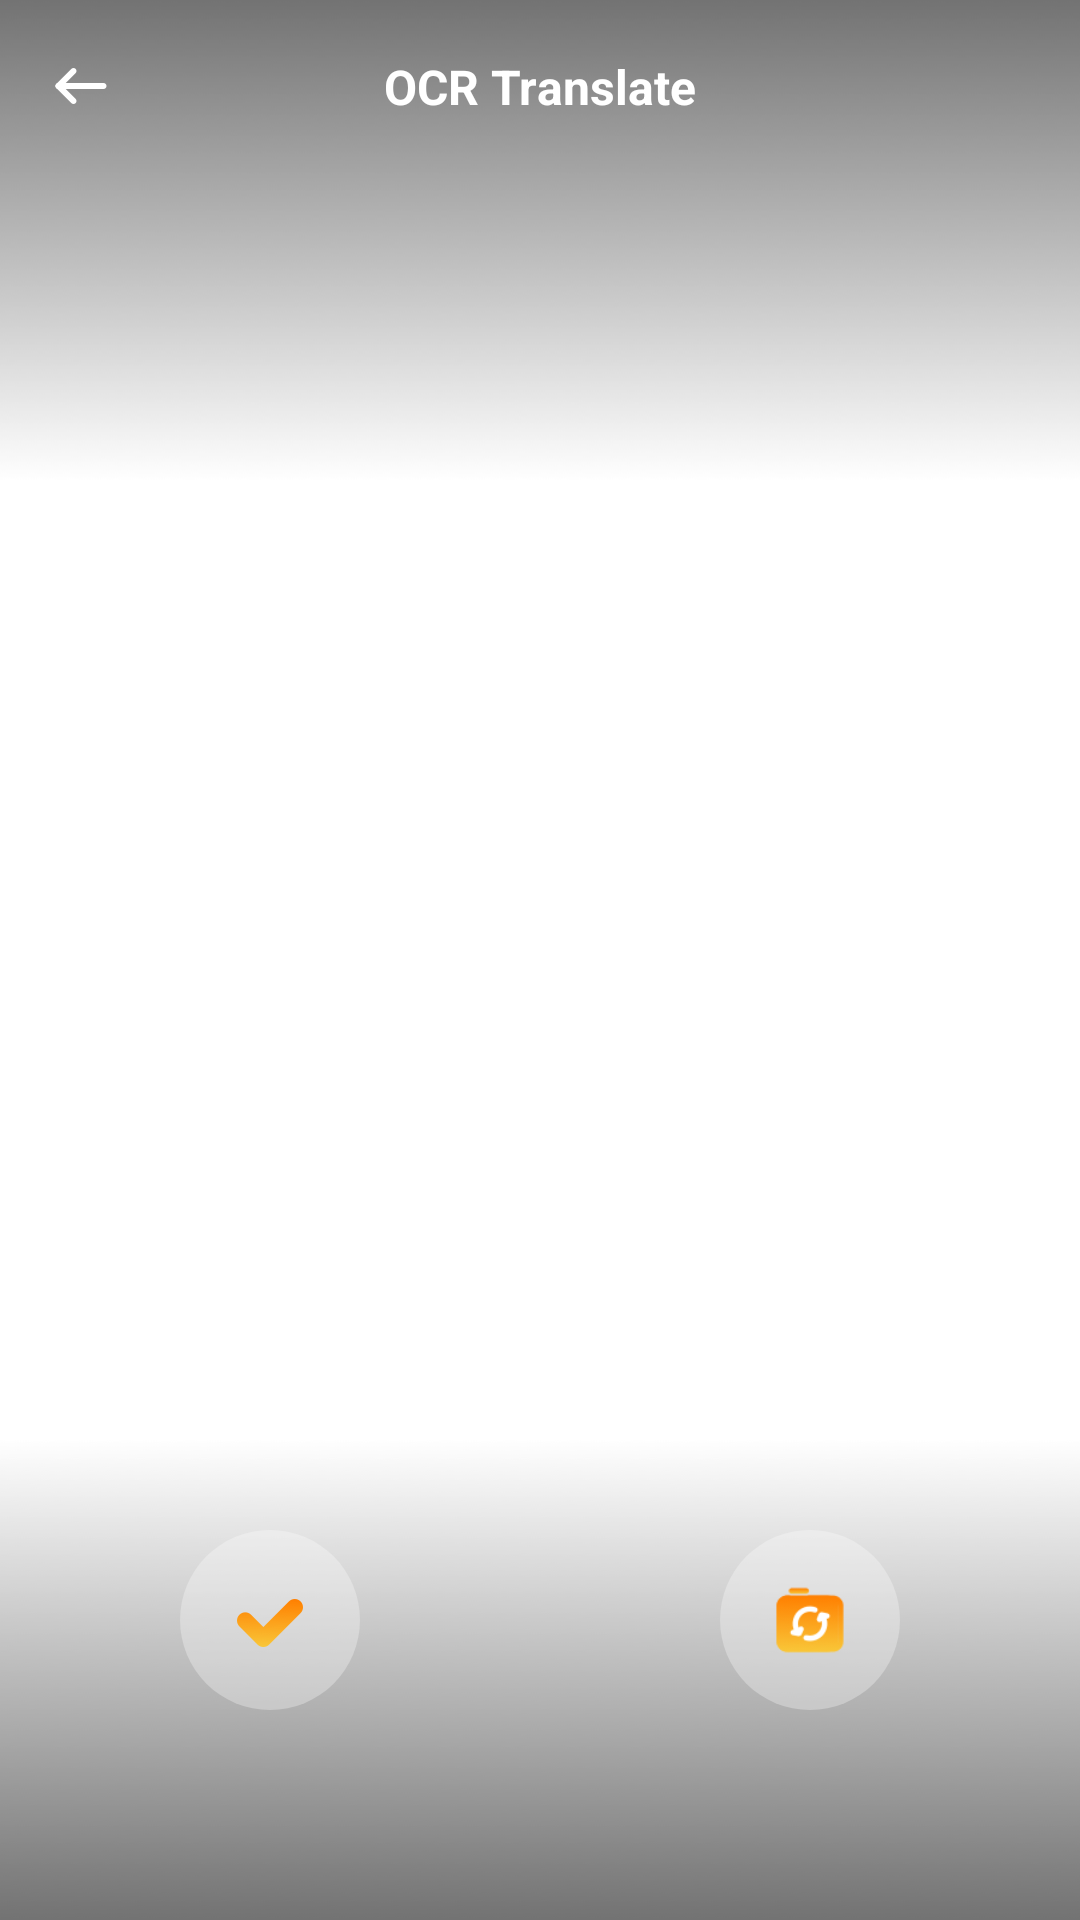

Screen size 1080x1920. Icon name, then its center in pixels as (x,y):
back: (84,77)
camera: (810,1620)
sure: (270,1615)
